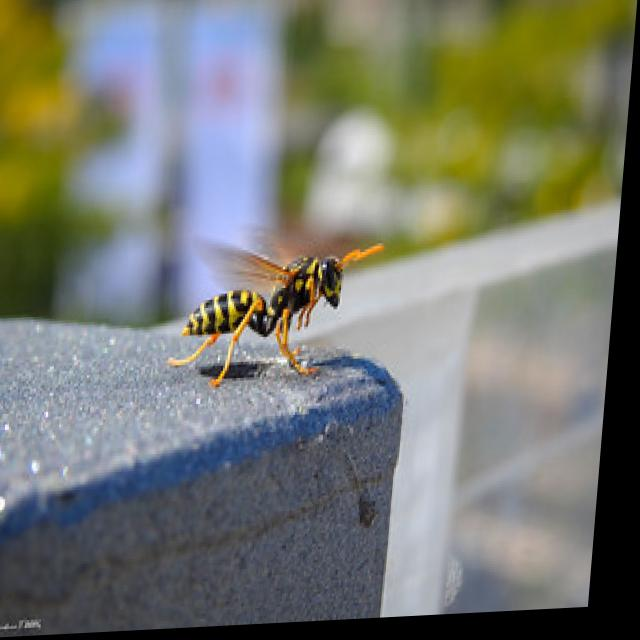Guepe: (150, 207, 415, 402)
